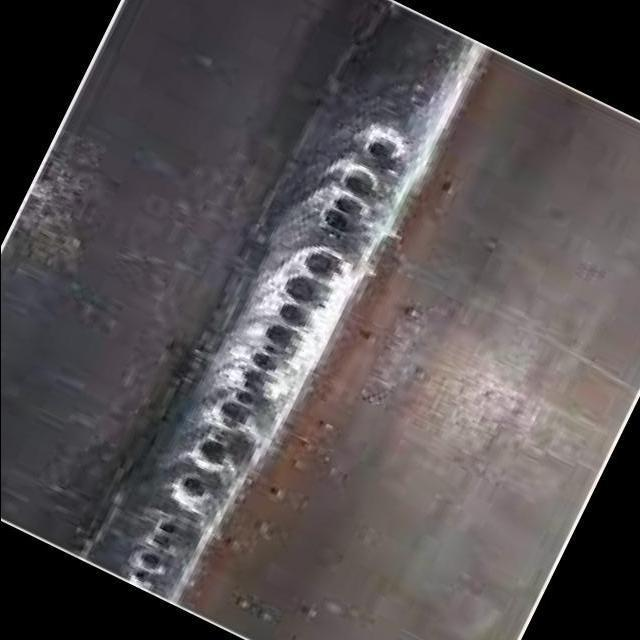defect: (206, 242, 350, 434), (311, 129, 407, 240), (126, 515, 183, 586), (188, 439, 235, 480), (163, 470, 213, 508)
